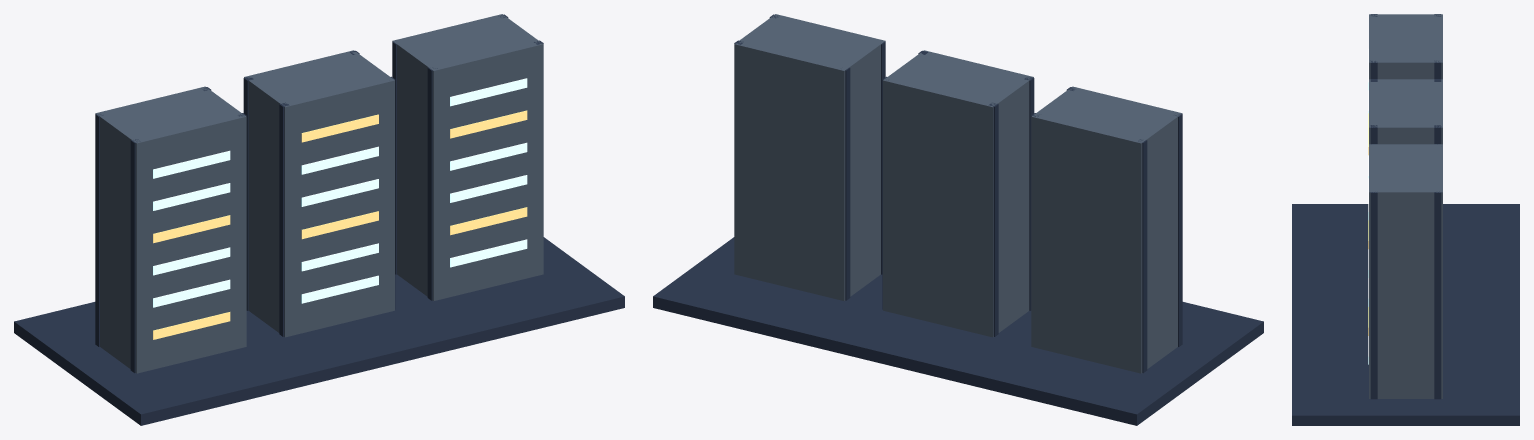
The model's file is rack-19u.glb.
The picture shows the model from 3 angles, left to right: view 1: azimuth 30°, elevation 25°; view 2: azimuth 150°, elevation 25°; view 3: azimuth 270°, elevation 25°; orthographic projection. The views are drawn at different scales.
Parts seen in each view (by area): view 1: dc-floor, rack-frame-2, rack-frame-0, rack-frame-1, rack-posts-0, rack-posts-1, rack-posts-2, bay-1-0, bay-1-2, bay-1-5, bay-2-1, bay-0-1 (+13 smaller); view 2: rack-frame-0, rack-frame-2, rack-frame-1, dc-floor, rack-posts-0, rack-posts-1, rack-posts-2; view 3: dc-floor, rack-frame-2, rack-frame-0, rack-frame-1, rack-posts-2, rack-posts-1, rack-posts-0.
Part boxes in pixels (<box>): dc-floor: <box>14,237,624,425</box>; rack-frame-2: <box>392,14,543,300</box>; rack-frame-0: <box>95,86,246,373</box>; rack-frame-1: <box>244,50,394,337</box>; rack-posts-0: <box>95,87,246,373</box>; rack-posts-1: <box>243,50,395,336</box>; rack-posts-2: <box>392,14,543,300</box>; bay-1-0: <box>301,275,378,303</box>; bay-1-2: <box>301,211,378,239</box>; bay-1-5: <box>301,114,378,142</box>; bay-2-1: <box>450,207,527,235</box>; bay-0-1: <box>153,279,230,307</box>; rack-frame-0: <box>1031,86,1182,373</box>; rack-frame-2: <box>734,14,885,300</box>; rack-frame-1: <box>883,50,1033,337</box>; dc-floor: <box>653,237,1263,425</box>; rack-posts-0: <box>1031,87,1182,373</box>; rack-posts-1: <box>882,50,1034,336</box>; rack-posts-2: <box>734,14,885,300</box>; dc-floor: <box>1292,204,1519,425</box>; rack-frame-2: <box>1369,144,1442,398</box>; rack-frame-0: <box>1369,14,1442,79</box>; rack-frame-1: <box>1369,79,1442,144</box>; rack-posts-2: <box>1370,144,1441,399</box>; rack-posts-1: <box>1370,79,1441,143</box>; rack-posts-0: <box>1370,14,1441,78</box>.
Size of what is drawn, in the model's own units: 4.4 by 2.1 by 2.
